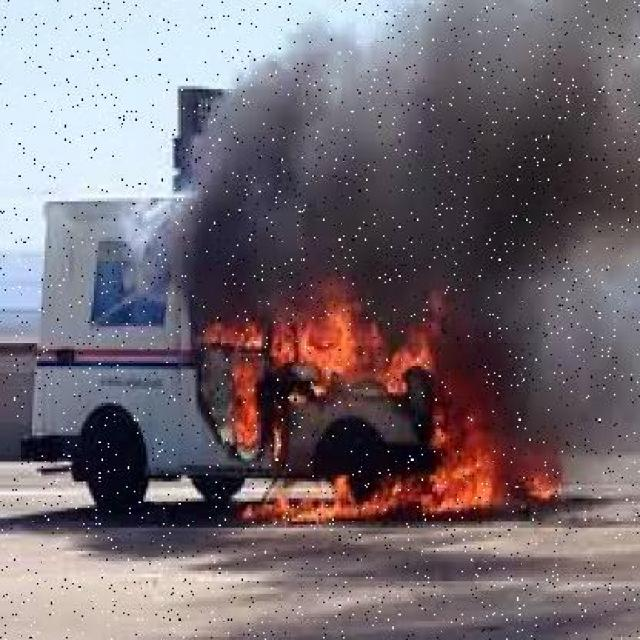fire: (186, 277, 569, 545)
